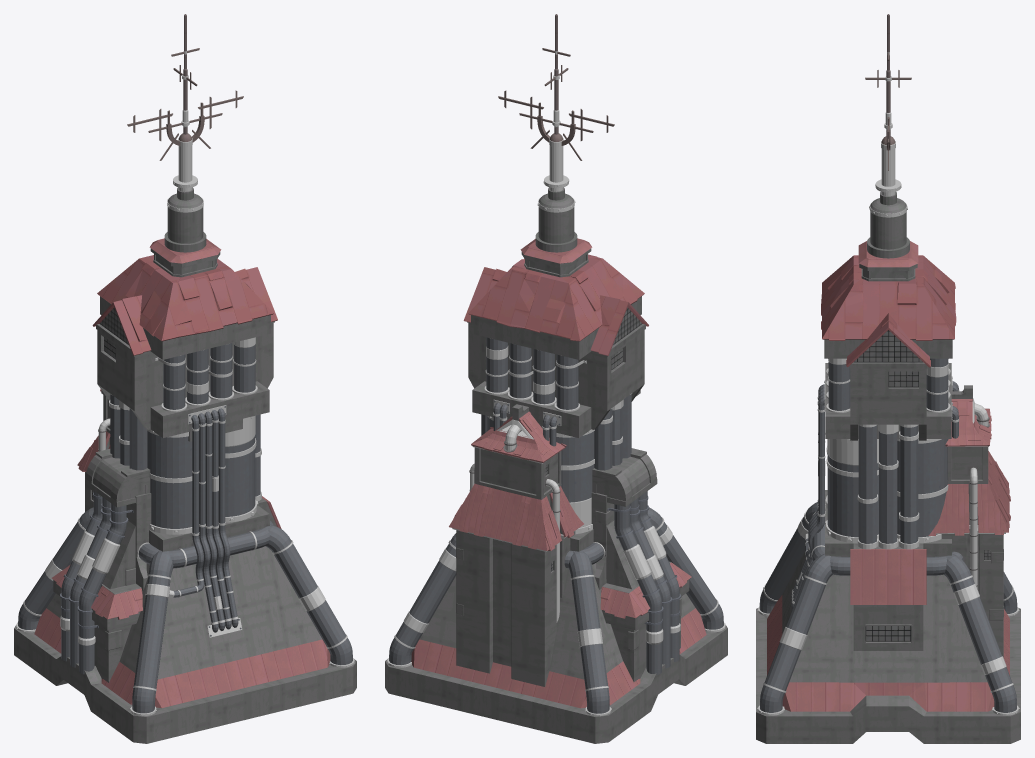
Rendered from MainTower_Bd.fbx.
3 renders of one model, left to right at view 1: azimuth 30°, elevation 25°; view 2: azimuth 150°, elevation 25°; view 3: azimuth 270°, elevation 25°, orthographic. The views are drawn at different scales.
Parts seen in each view (by area): view 1: SM_ENV_AMVLLG02_AreaB_MainTower_Bd.mo; view 2: SM_ENV_AMVLLG02_AreaB_MainTower_Bd.mo; view 3: SM_ENV_AMVLLG02_AreaB_MainTower_Bd.mo.
Boxes of the visible parts, left/top/right/bottom form: SM_ENV_AMVLLG02_AreaB_MainTower_Bd.mo: left=14, top=14, right=356, bottom=743; SM_ENV_AMVLLG02_AreaB_MainTower_Bd.mo: left=385, top=14, right=727, bottom=743; SM_ENV_AMVLLG02_AreaB_MainTower_Bd.mo: left=756, top=14, right=1020, bottom=743.
Size of the model in its own units: 2463 by 6820 by 2429.
